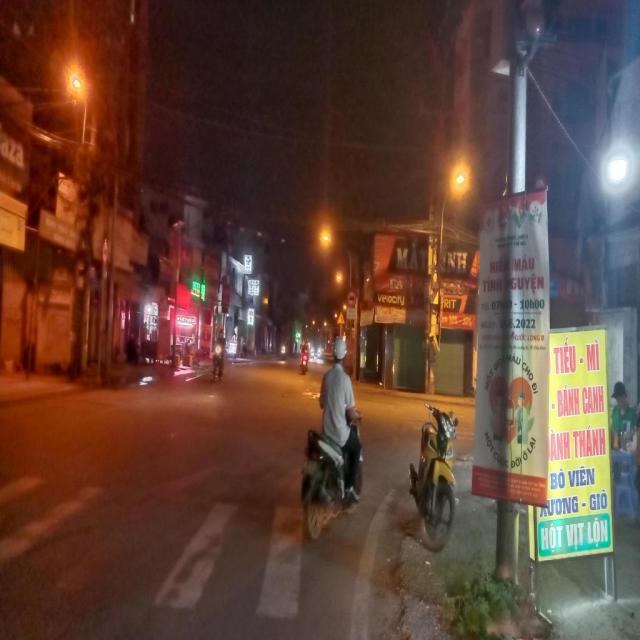cam_o_to_tai: (347, 290, 357, 308)
cho_ngoat_nguy_hiem_ben_trai: (337, 312, 345, 324)
khac: (347, 308, 357, 319)
